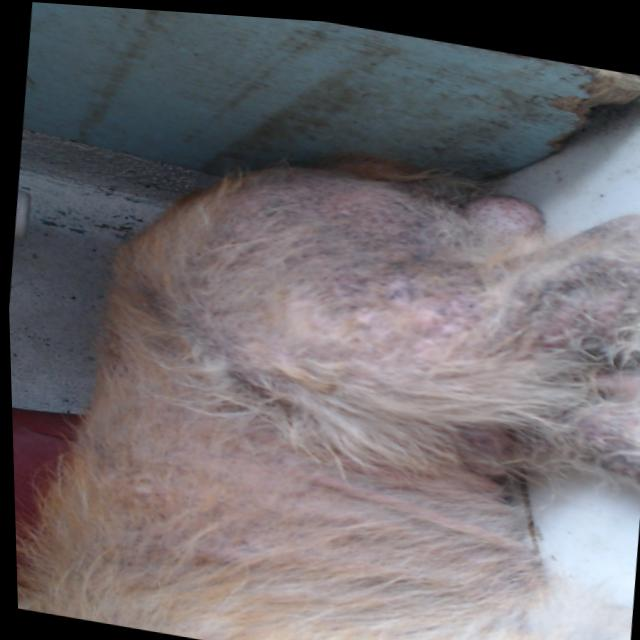demodicosis: (235, 167, 412, 338), (475, 261, 634, 433)
